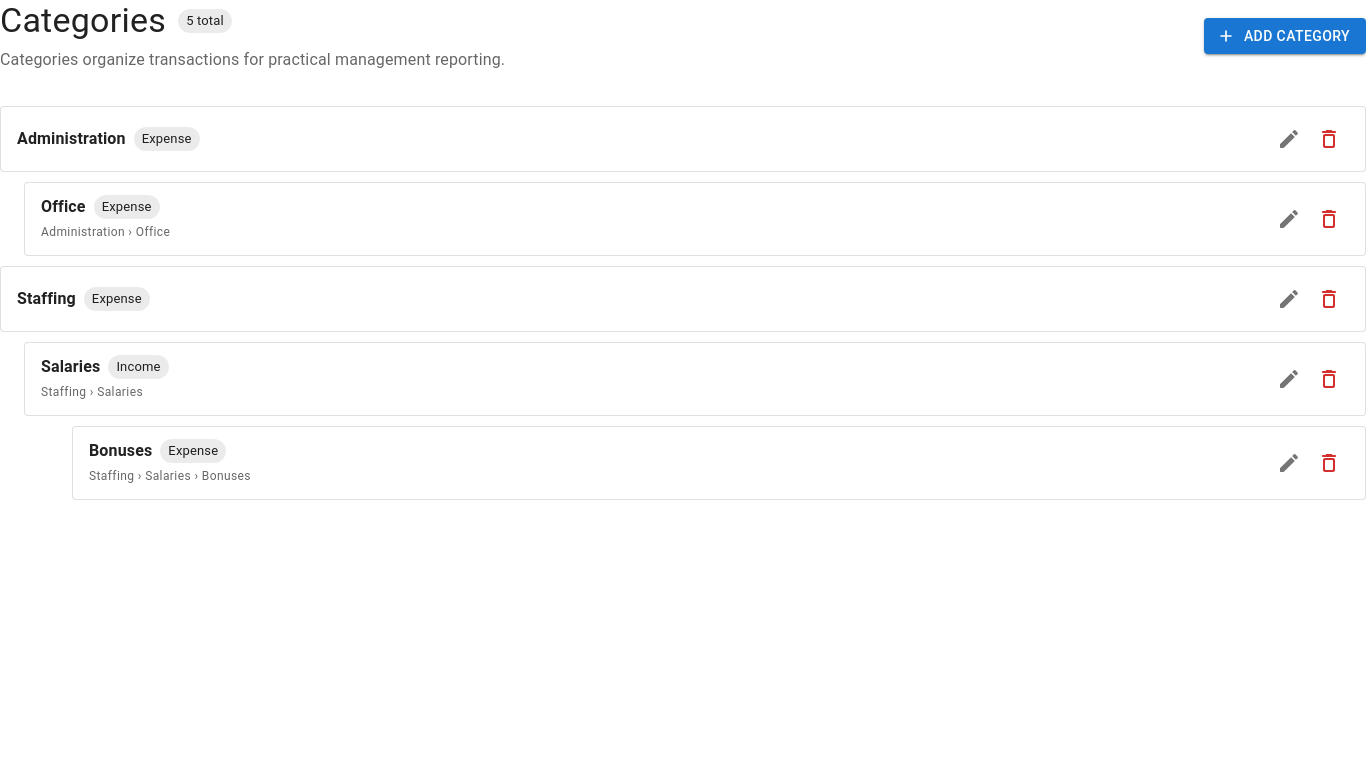
Test: categories view › shows only valid parent candidates in the actual edit form
This screenshot has width=1366, height=768.
Click the button named "Edit Salaries" at (1289, 379), box x1=1269 y1=359 x2=1309 y2=399
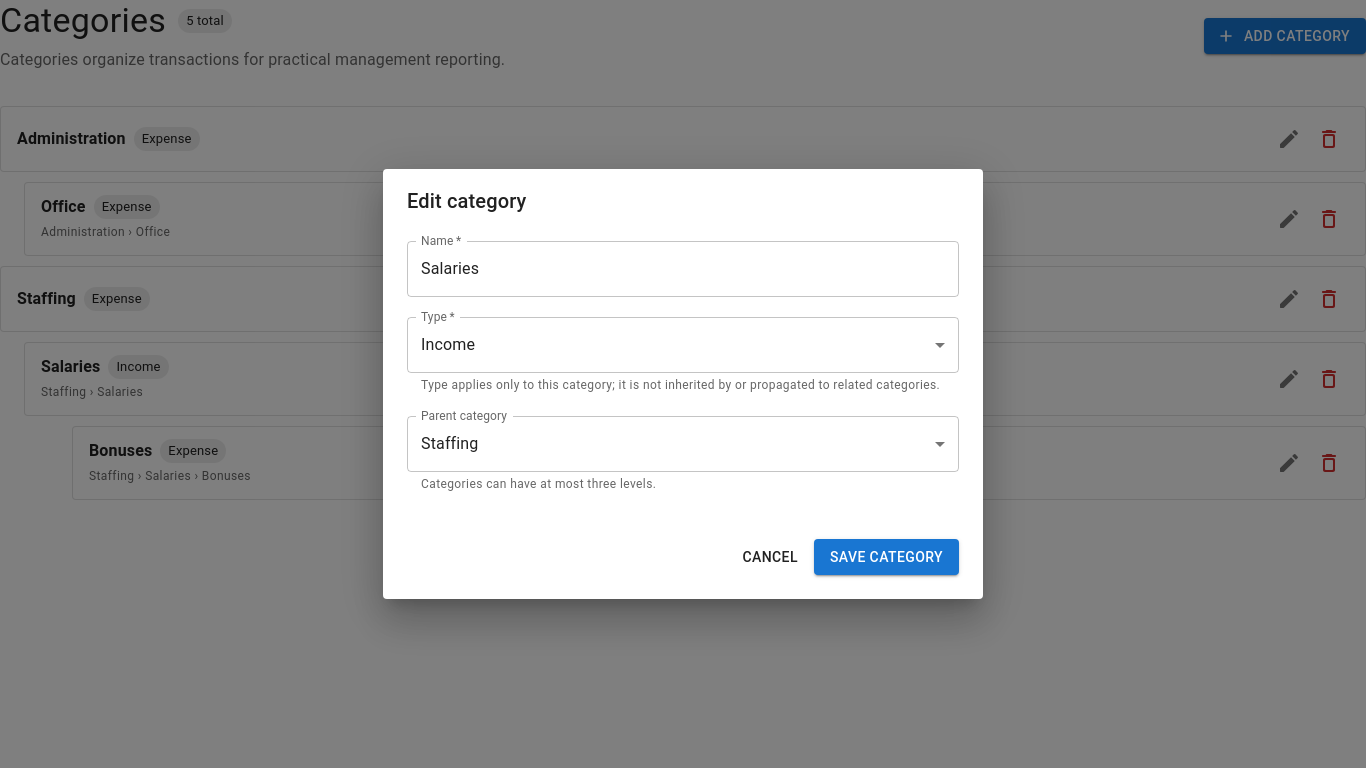
Press the mouse on the dropdown named "Parent category" at (450, 444), box x1=421 y1=434 x2=478 y2=453
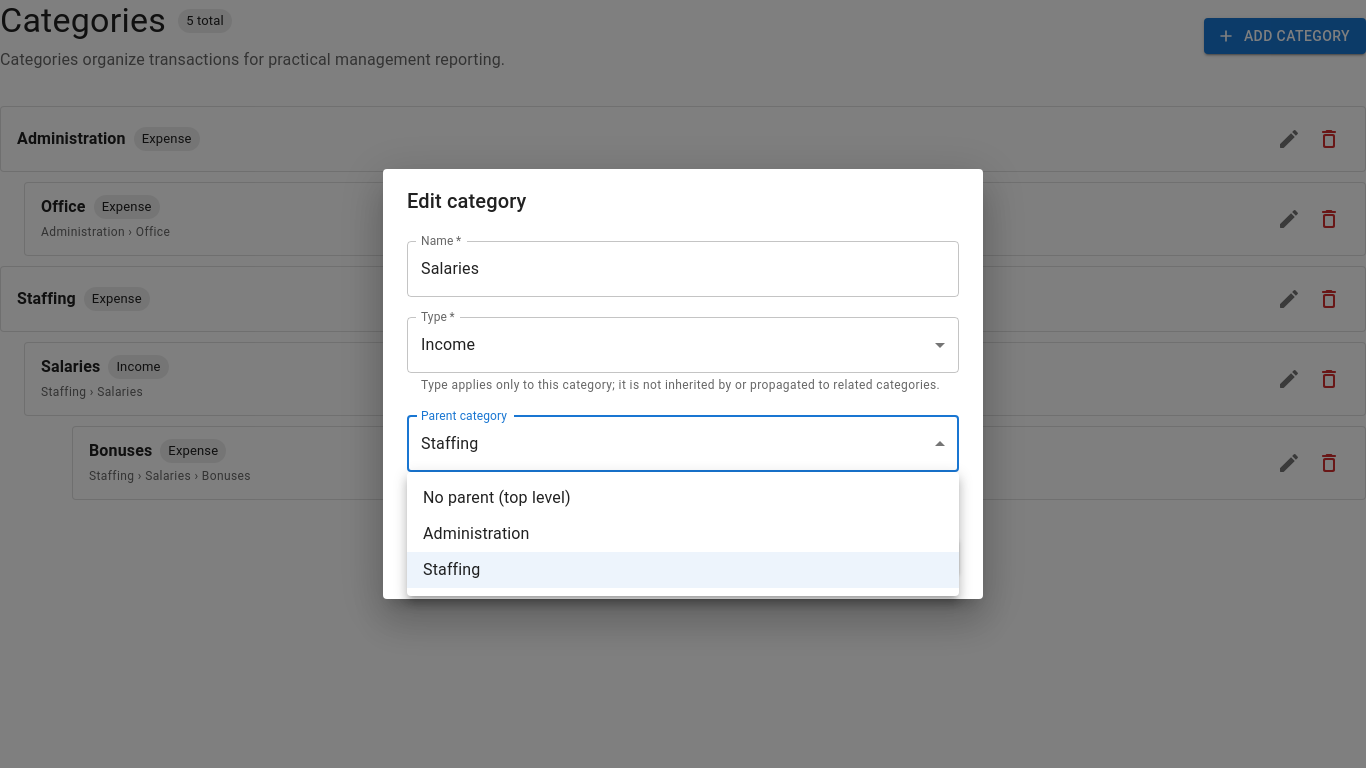
Expected: the option "No parent (top level)" is shown, x1=423 y1=488 x2=571 y2=507
Expected: the option "Staffing" is shown, x1=407 y1=552 x2=959 y2=588
Expected: the option "Administration" is shown, x1=423 y1=524 x2=530 y2=543
